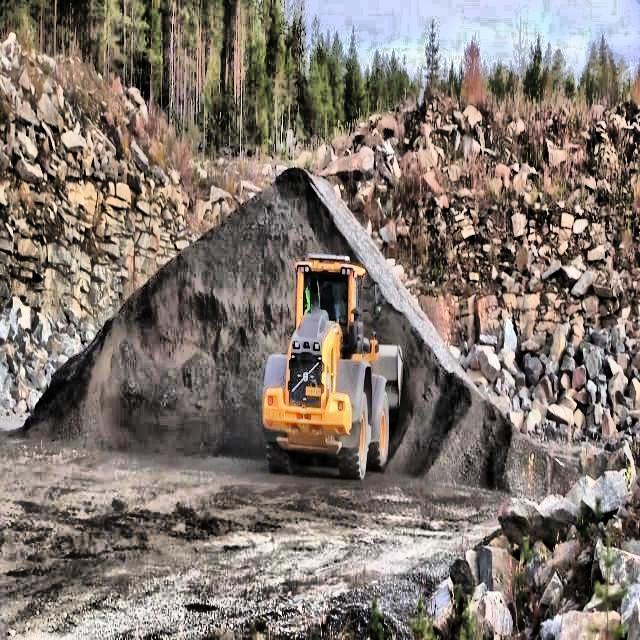bull_dozer/loader/grader: (247, 245, 409, 486)
